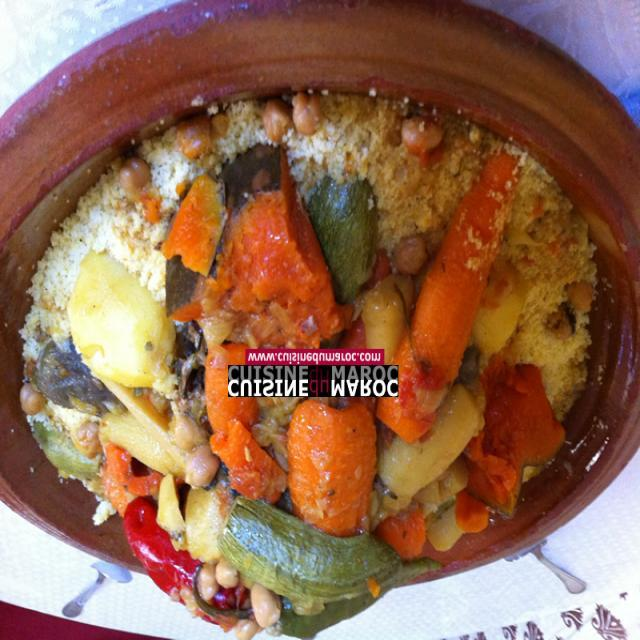Couscous: (15, 90, 598, 640)
